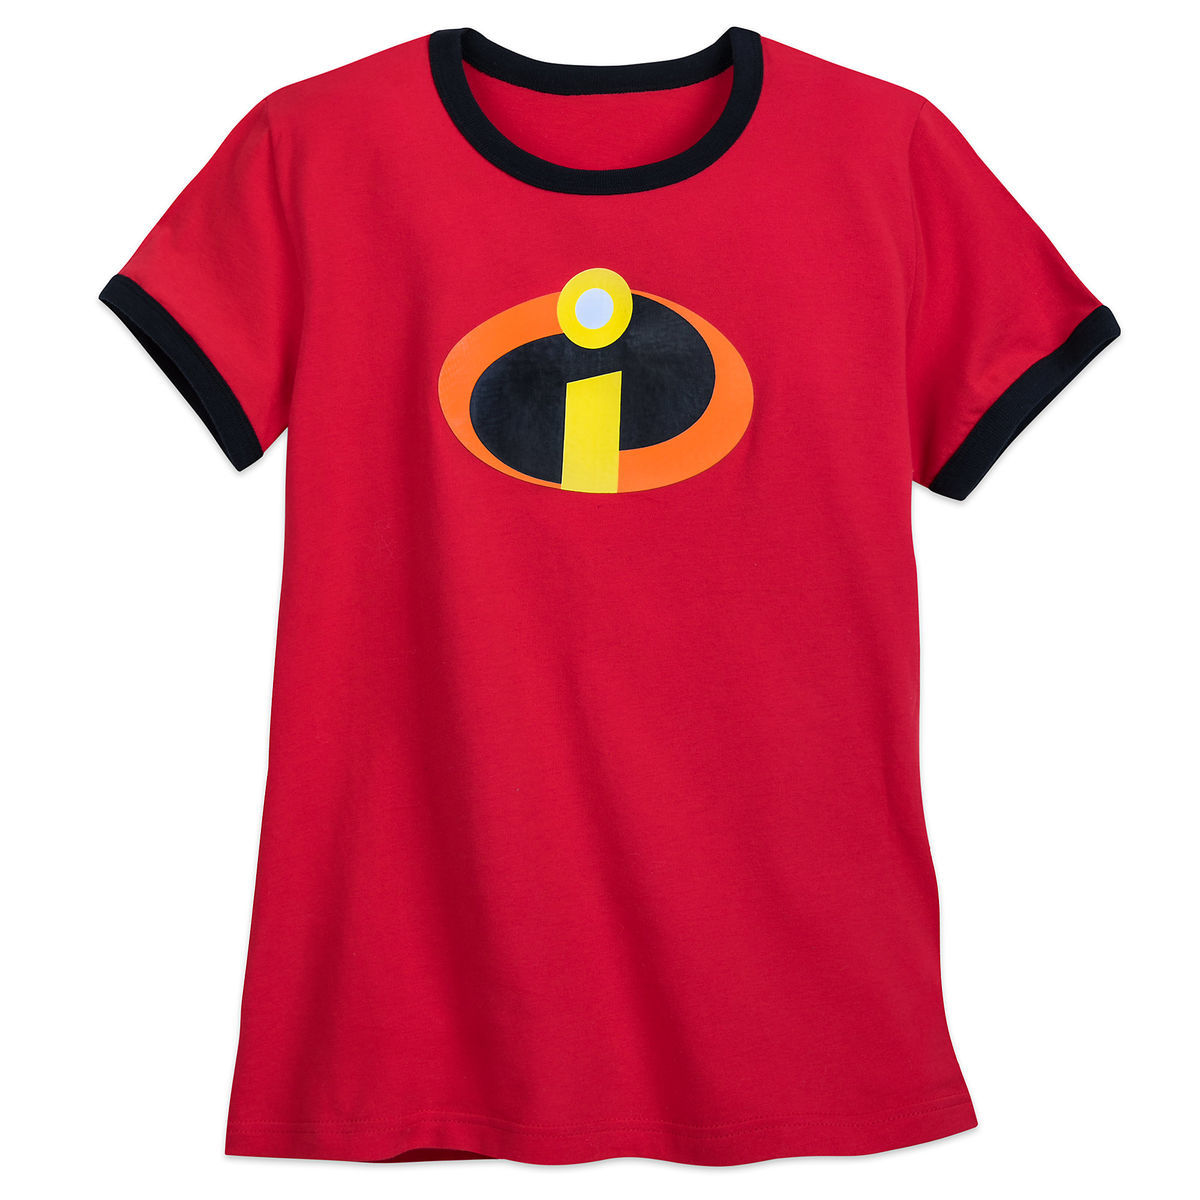T-Shirt: (73, 16, 1130, 1175)
